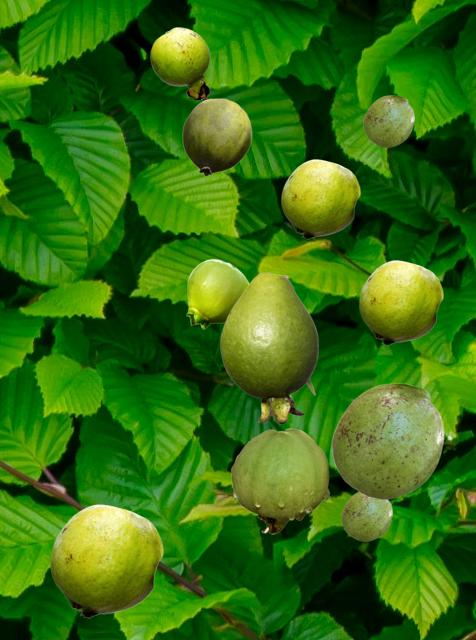guava: (220, 272, 317, 423), (331, 383, 443, 498), (50, 504, 162, 617), (231, 428, 328, 533), (359, 260, 442, 344), (281, 159, 359, 238), (182, 98, 251, 175), (186, 259, 248, 328), (150, 27, 209, 98), (363, 95, 413, 146), (341, 492, 391, 540)
